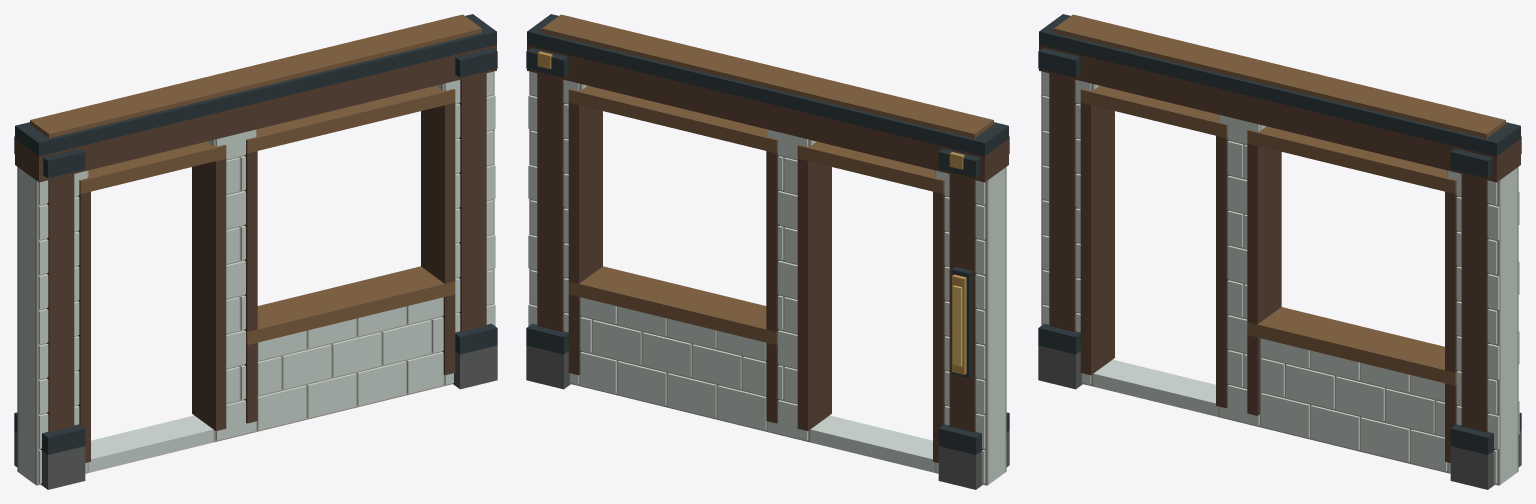
Rendered from visual-far.glb.
The picture shows the model from 3 angles, left to right: view 1: azimuth 30°, elevation 25°; view 2: azimuth 150°, elevation 25°; view 3: azimuth 330°, elevation 25°; orthographic projection.
Parts seen in each view (by area): view 1: 旧楼分段入口及窗洞墙; view 2: 旧楼分段入口及窗洞墙; view 3: 旧楼分段入口及窗洞墙.
Part boxes in pixels (bbox=[...]): 旧楼分段入口及窗洞墙: bbox=[14, 14, 497, 489]; 旧楼分段入口及窗洞墙: bbox=[526, 14, 1009, 489]; 旧楼分段入口及窗洞墙: bbox=[1038, 14, 1521, 489].
Bounding box in the file's own units: 4.4 × 3.2 × 0.6.
8 materials, 8 textured.
